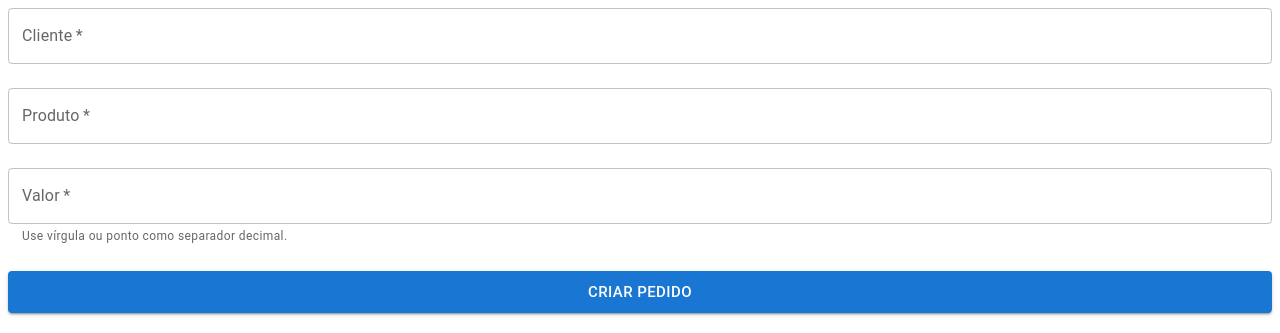
Test: OrderForm › marks the value field as invalid while an invalid format is being typed
Type "valor inválido" into the field labelled "Valor *" at (640, 196), box x1=8 y1=168 x2=1272 y2=224
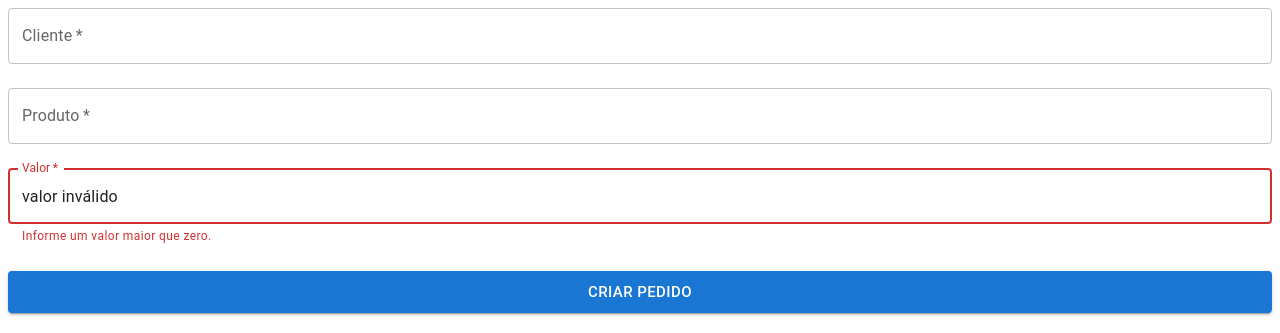
Check: the text "Informe um valor maior que zero." is shown, box x1=22 y1=229 x2=212 y2=243
